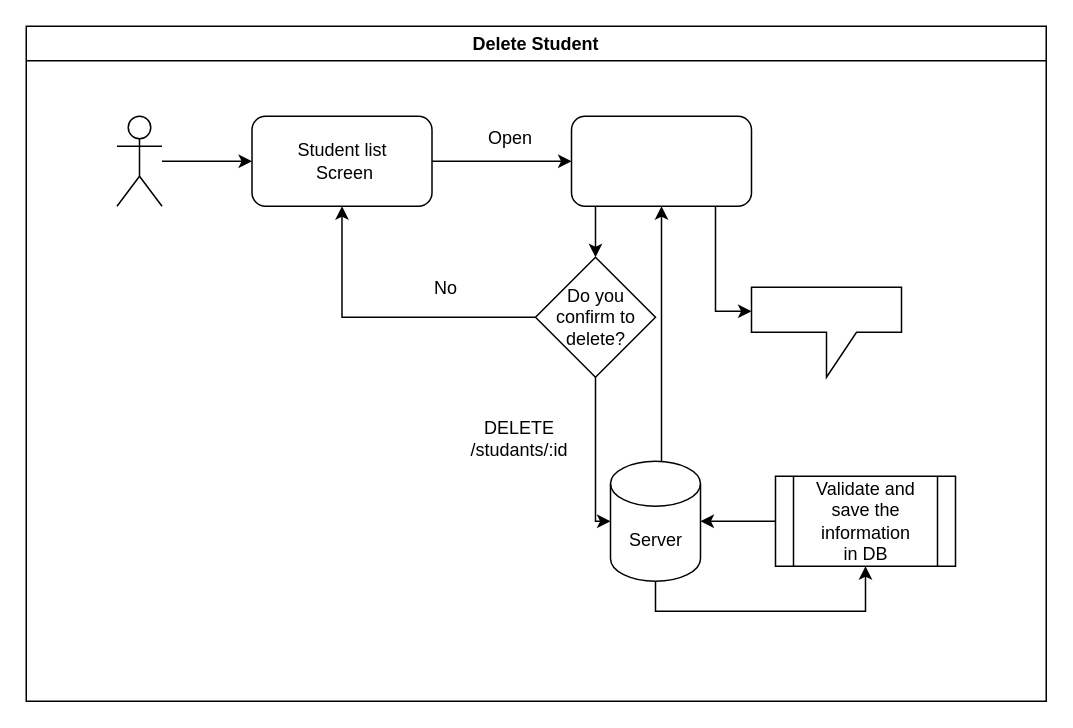
Some shapes in this 1073 by 728 pixel diagram are drawn without their labels. Here are the shapes that lost their labels. From the top down, the box of each, then its label:
(116, 115, 162, 206): Administrator
(570, 115, 752, 206): Delete studant Modal
(750, 286, 902, 377): Show feedback message
